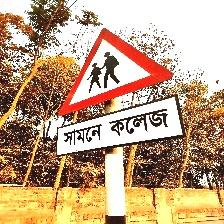College-in-front: (34, 25, 224, 170)
